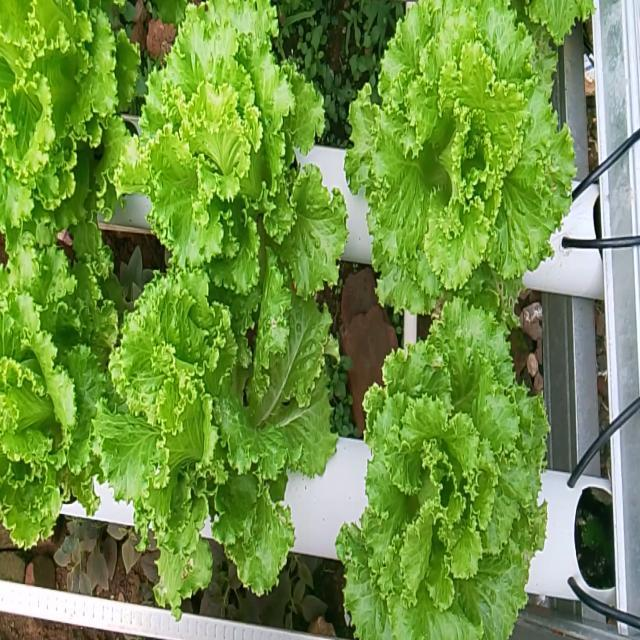Mature: (82, 270, 331, 614), (330, 286, 546, 640), (335, 0, 572, 306), (111, 0, 338, 315), (0, 249, 103, 560), (0, 0, 124, 244)
